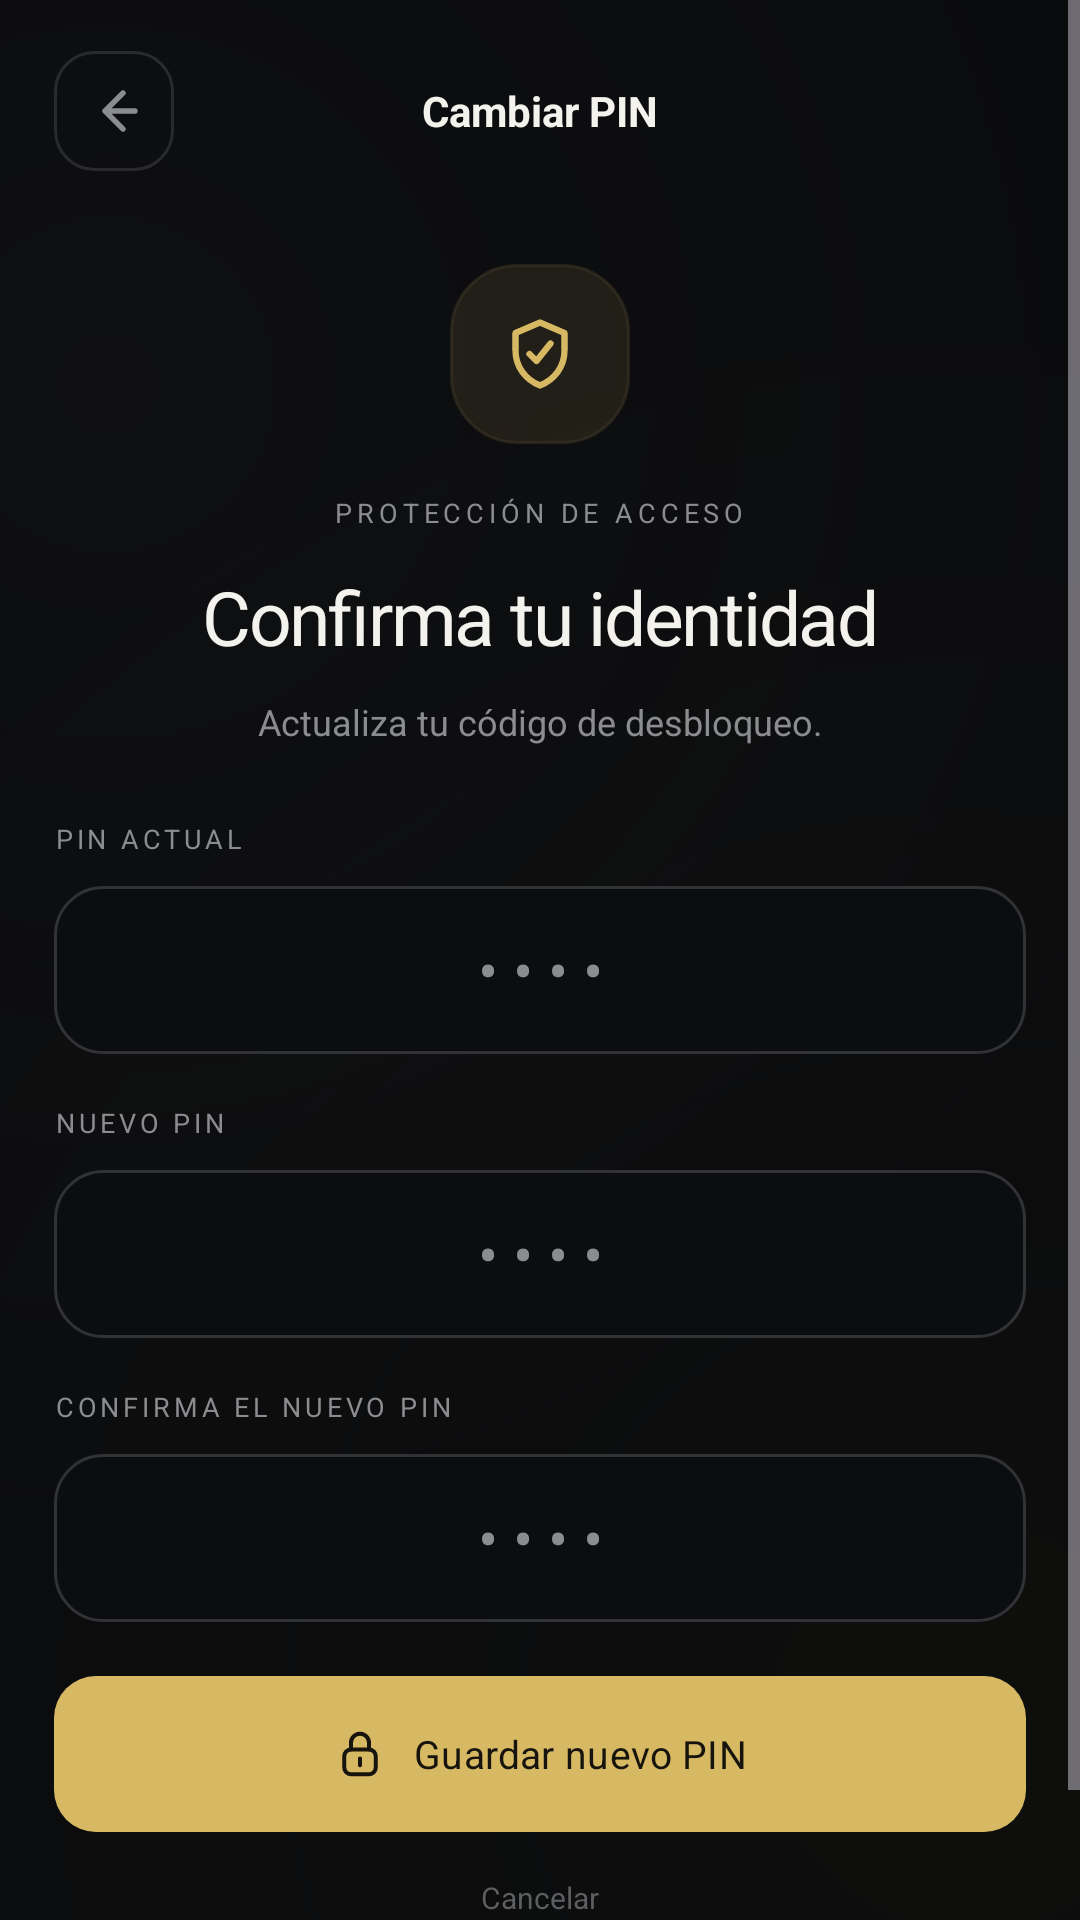

Icon bounding boxes for this 1080 x 1920 phone screenshot, format [left=x1, top=y1, right=x2, bottom=y2]:
security shield: [left=450, top=264, right=630, bottom=444]
Volver: [left=54, top=51, right=174, bottom=171]
